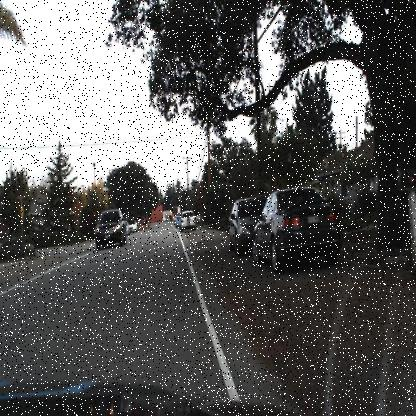car: (252, 184, 338, 272), (226, 195, 268, 254), (92, 206, 128, 254)
